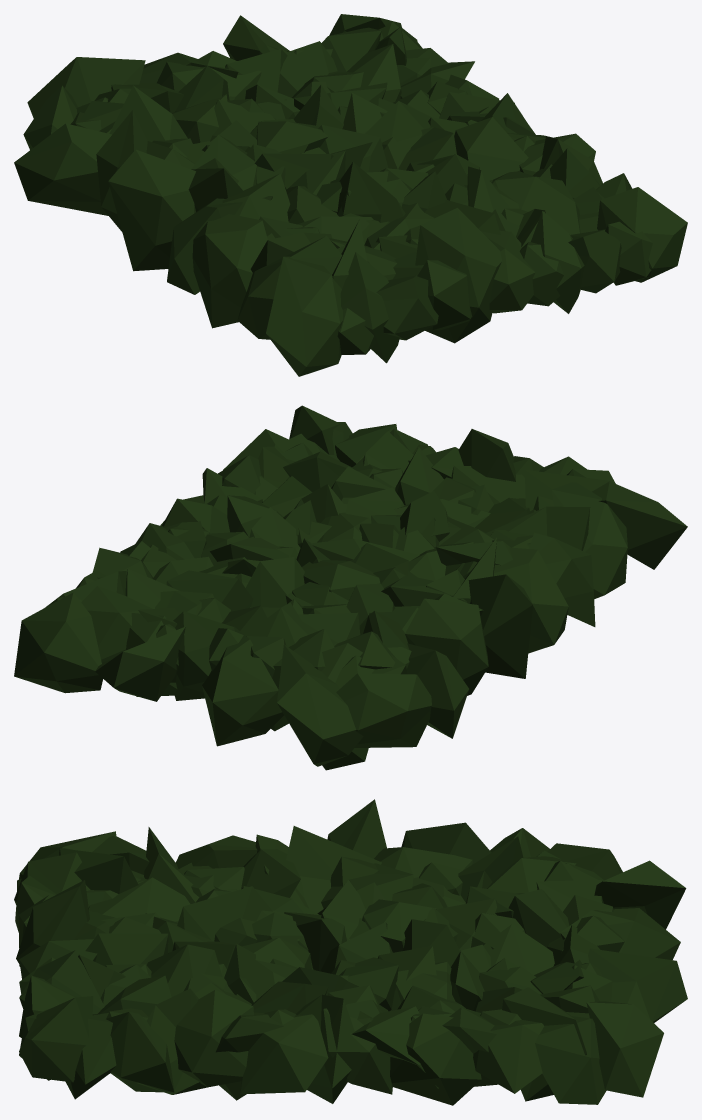
File: canopy.fbx
3 renders of one model, top to bottom at view 1: azimuth 30°, elevation 25°; view 2: azimuth 150°, elevation 25°; view 3: azimuth 270°, elevation 25°, orthographic. The views are drawn at different scales.
Visible parts, largest first — view 1: pPlatonic57, pPlatonic71, pPlatonic56, pPlatonic72, pPlatonic83, pPlatonic111, pPlatonic41, pPlatonic66, pPlatonic68, pPlatonic100, pPlatonic81, pPlatonic121 (+69 smaller); view 2: pPlatonic20, pPlatonic41, pPlatonic35, pPlatonic40, pPlatonic57, pPlatonic62, pPlatonic66, pPlatonic71, pPlatonic90, pPlatonic29, pPlatonic56, pPlatonic72 (+67 smaller); view 3: pPlatonic9, pPlatonic20, pPlatonic117, pPlatonic119, pPlatonic24, pPlatonic111, pPlatonic29, pPlatonic114, pPlatonic21, pPlatonic41, pPlatonic12, pPlatonic89 (+81 smaller).
Boxes of the visible parts, x1,y1,x2,y2 form: pPlatonic57: (108,149,195,271); pPlatonic71: (266,256,342,376); pPlatonic56: (14,123,111,215); pPlatonic72: (192,214,267,328); pPlatonic83: (415,208,501,343); pPlatonic111: (597,187,687,282); pPlatonic41: (27,57,145,118); pPlatonic66: (237,236,342,339); pPlatonic68: (340,252,399,363); pPlatonic100: (454,117,528,180); pPlatonic81: (376,275,438,340); pPlatonic121: (481,230,535,313); pPlatonic20: (14,592,102,693); pPlatonic41: (277,644,363,766); pPlatonic35: (202,626,283,746); pPlatonic40: (336,673,431,747); pPlatonic57: (468,574,532,678); pPlatonic62: (405,598,488,695); pPlatonic66: (551,482,627,598); pPlatonic71: (592,481,687,569); pPlatonic90: (493,547,568,653); pPlatonic29: (95,626,185,701); pPlatonic56: (406,643,469,738); pPlatonic72: (529,533,595,626); pPlatonic9: (390,1013,481,1105); pPlatonic20: (586,1001,663,1097); pPlatonic117: (240,1014,328,1094); pPlatonic119: (174,990,253,1087); pPlatonic24: (535,1016,606,1104); pPlatonic111: (19,996,93,1082); pPlatonic29: (588,948,687,1022); pPlatonic114: (106,1012,174,1092); pPlatonic21: (473,1020,543,1093); pPlatonic41: (594,860,686,929); pPlatonic12: (323,999,392,1094); pPlatonic89: (286,826,381,913).
Size of the model in its own units: 13.16 by 4.23 by 17.09.
